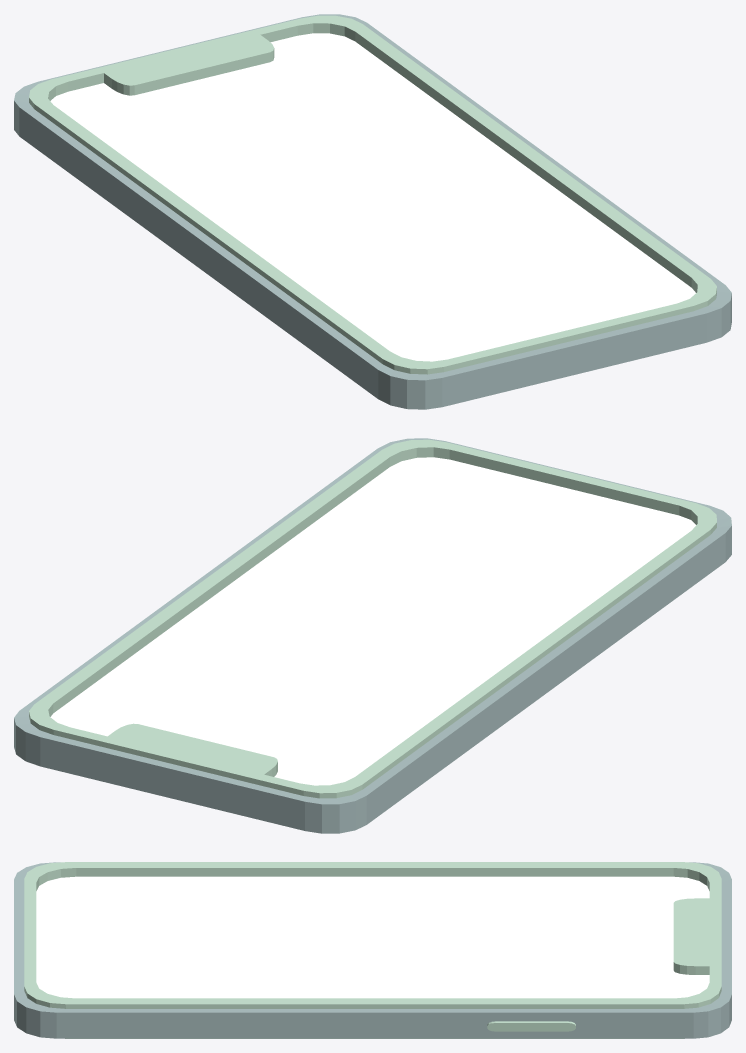
The model's file is phone.glb.
3 views of the same model, one above another, from view 1: azimuth 30°, elevation 25°; view 2: azimuth 150°, elevation 25°; view 3: azimuth 270°, elevation 25° (orthographic). The views are drawn at different scales.
Parts seen in each view (by area): view 1: Plane; view 2: Plane; view 3: Plane.
Boxes of the visible parts, bbox=[...] form: Plane: bbox=[14, 14, 731, 409]; Plane: bbox=[14, 438, 731, 833]; Plane: bbox=[14, 862, 731, 1038].
Size of the model in its own units: 2.41 by 0.2567 by 4.82.
